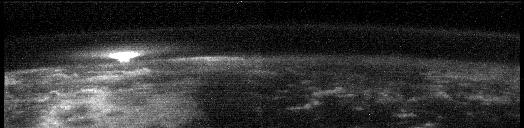negative: (101, 49, 144, 65)
